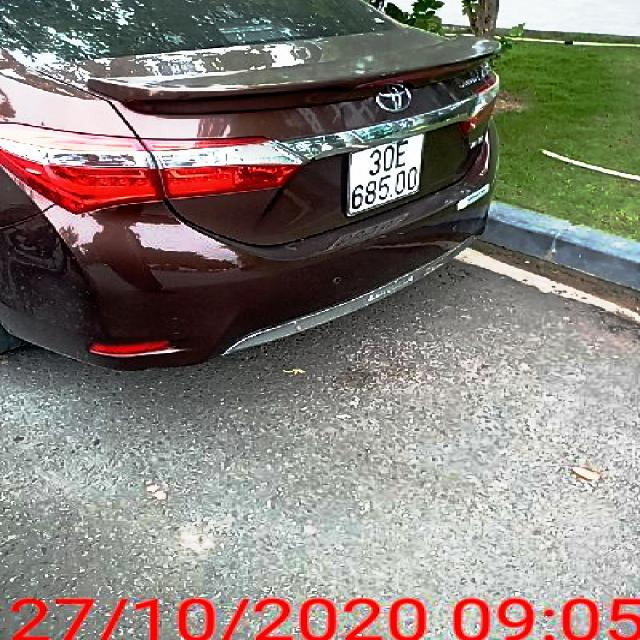license_plate: (349, 134, 426, 217)
